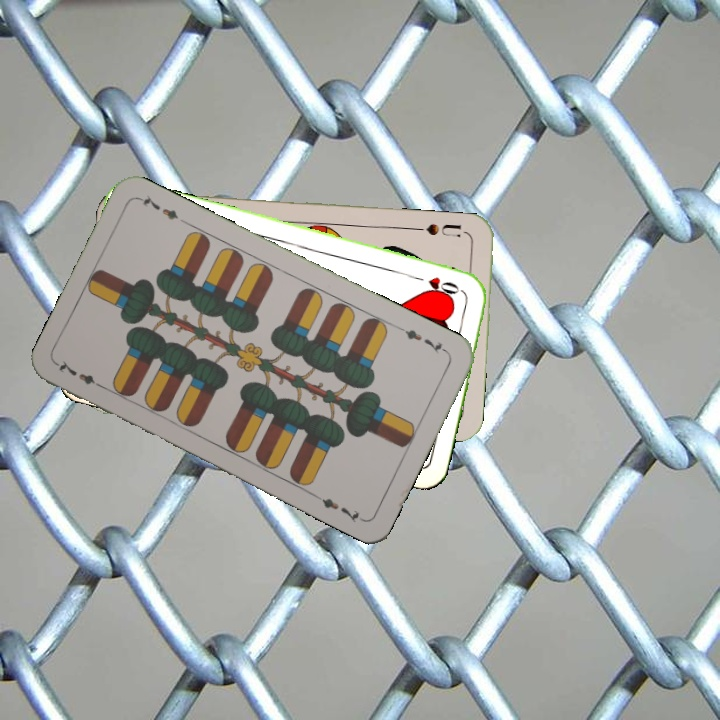E7: (53, 356, 108, 392), (395, 322, 450, 357)
HO: (409, 271, 467, 297)
SU: (411, 219, 463, 240)
